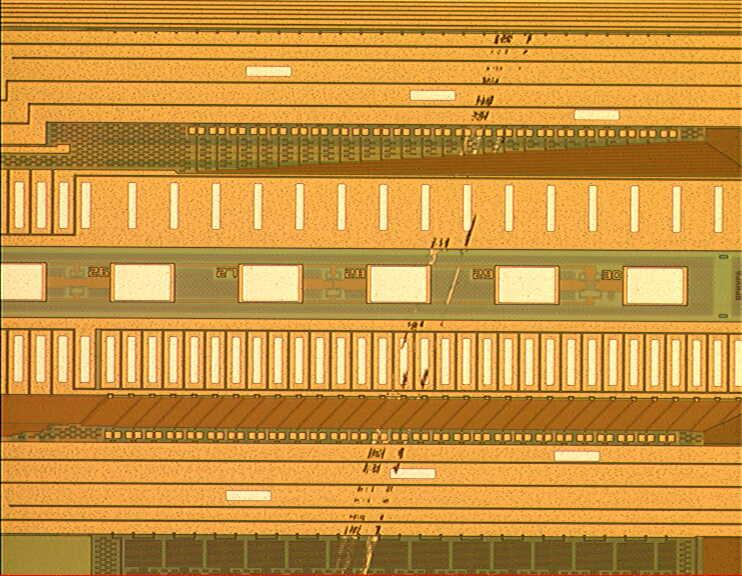SCRATCH: (330, 20, 537, 576)
